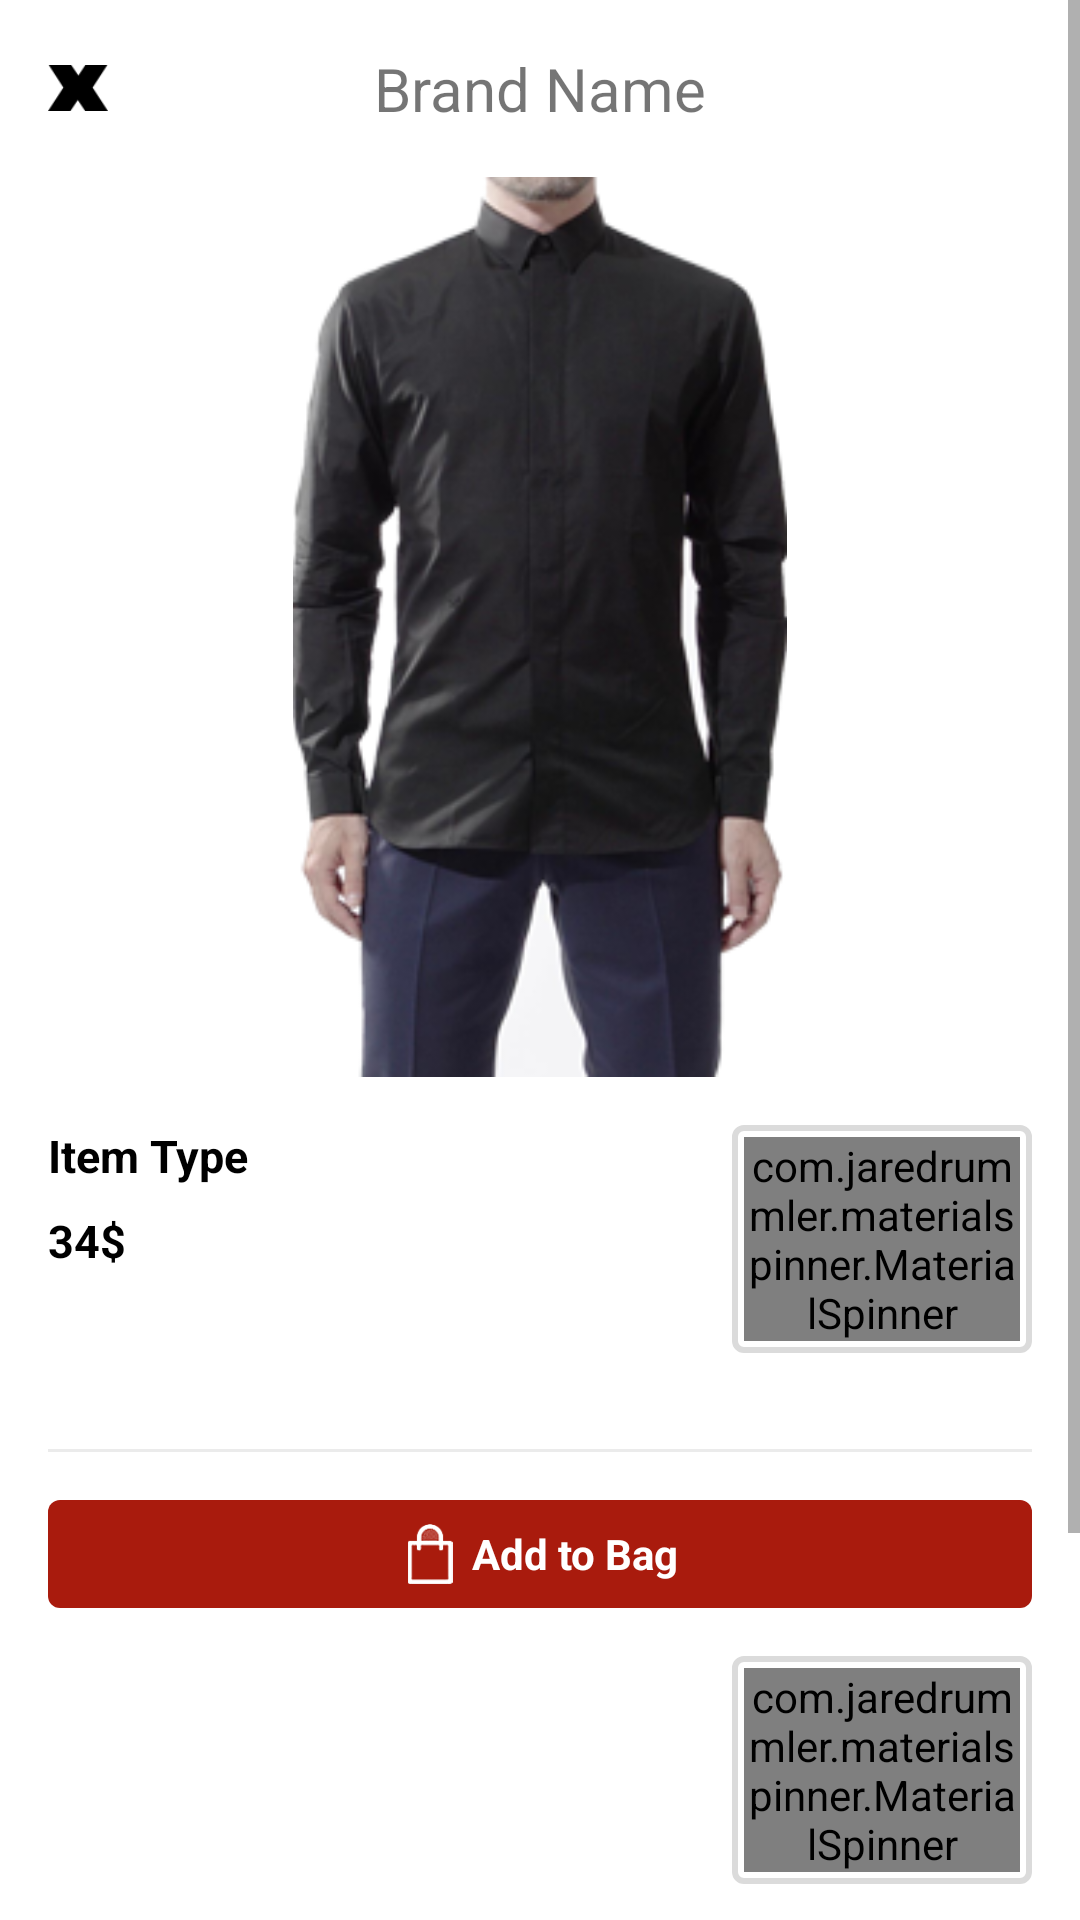

Icon bounding boxes for this 1080 × 1920 phone screenshot, format (x1, y1, x2, y2):
close: (48, 65, 108, 111)
